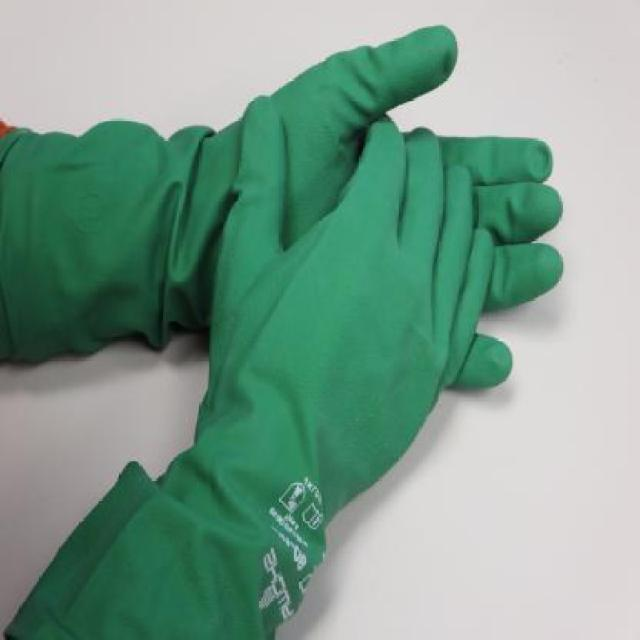glove: (1, 19, 567, 639)
